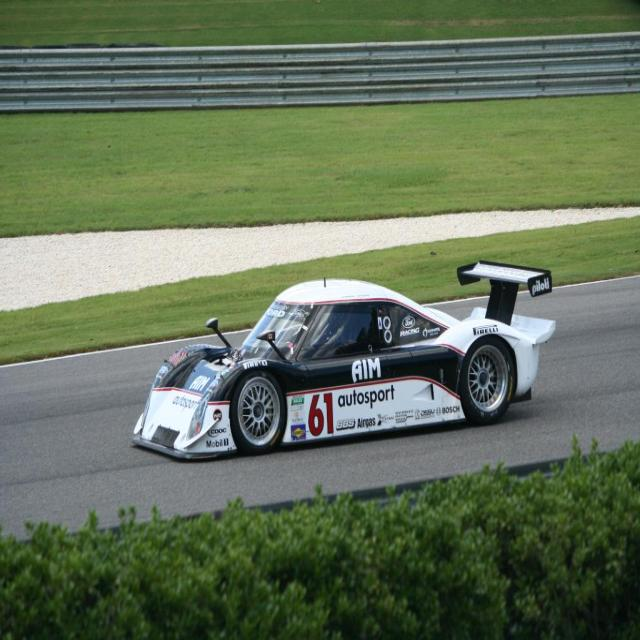car: (136, 259, 557, 455)
